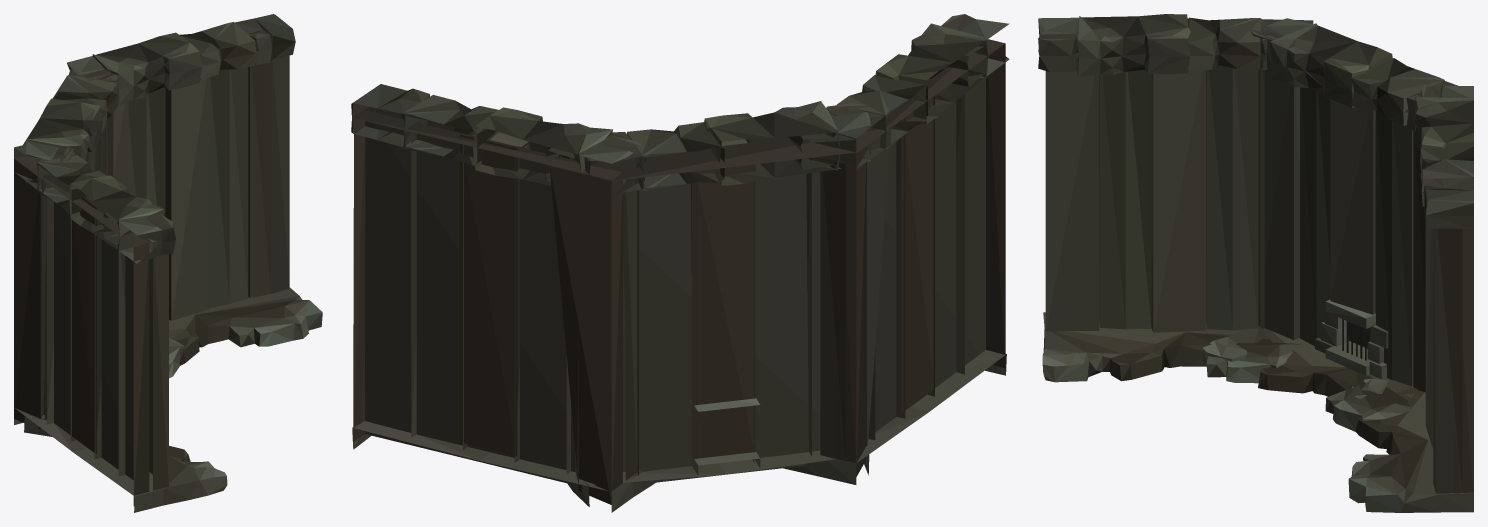
Rendered from wall_C_corner.fbx.
The picture shows the model from 3 angles, left to right: view 1: azimuth 30°, elevation 25°; view 2: azimuth 150°, elevation 25°; view 3: azimuth 270°, elevation 25°; orthographic projection. The views are drawn at different scales.
Visible parts, largest first — view 1: wall_C_corner; view 2: wall_C_corner; view 3: wall_C_corner.
Boxes of the visible parts, <box> form: wall_C_corner: <box>14,14,322,512</box>; wall_C_corner: <box>351,14,1009,512</box>; wall_C_corner: <box>1038,14,1473,512</box>.
Bounding box in the file's own units: 8.04 × 6.54 × 8.14.
